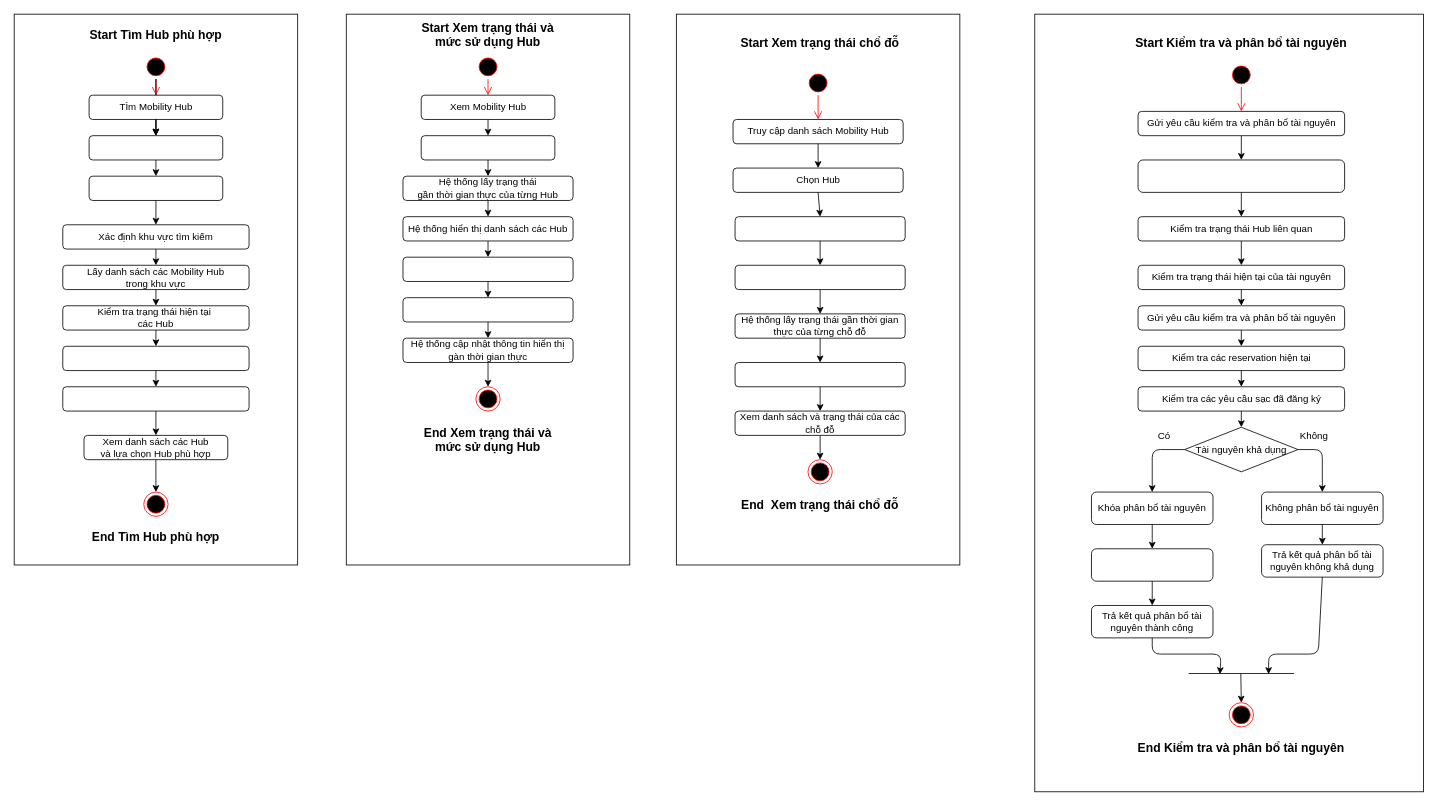
The diagram is 1438 pixels wide and 806 high, and some of its shapes have lost their labels. The shapes that lost their labels are listed below. From the top down, each one's centre as x and y in pixels, then its label:
(155,147): Cung cấp vị trí
(487,147): Hệ thống lấy danh sách các Mobility Hub
(155,187): Lựa chọn nhu cầu sử dụng
(1241,175): Hệ thống xác định loại tài nguyên được yêu cầu
(819,228): Xem trạng thái chỗ đỗ
(487,268): Lựa chọn 1 Hub đê xem thông tin chi tiết
(819,277): Hệ thống lấy danh sách các vị trí đỗ thuộc Hub đã chọn
(487,309): Hệ thống hiển thị trạng thái chi tiết của Hub được chọn
(155,358): Đánh giá khả năng đáp ứng của từng Hub
(819,374): Hiển thị thông tin chỗ đõ
(155,398): Hiển thị danh sách các Mobility Hub phù hợp
(1152,564): Ghi nhận việc phân bổ tài nguyên
